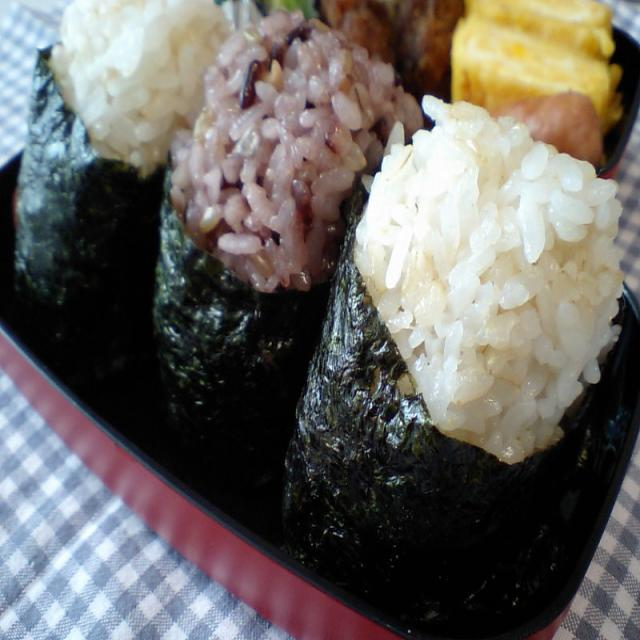米饭主食: (269, 80, 640, 638), (133, 6, 430, 534), (1, 0, 252, 438)
